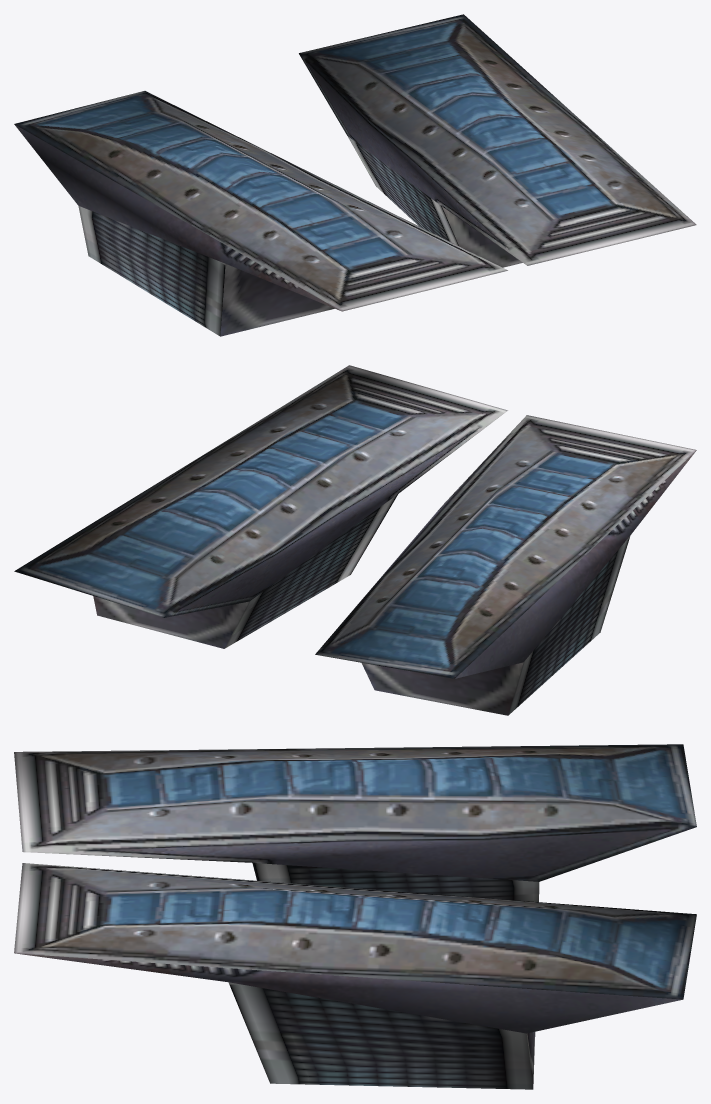
File: ArmPads4__LED.glb
3 views of the same model, one above another, from view 1: azimuth 30°, elevation 25°; view 2: azimuth 150°, elevation 25°; view 3: azimuth 270°, elevation 25° (orthographic). The views are drawn at different scales.
Visible parts, largest first — view 1: ArmPads4; view 2: ArmPads4; view 3: ArmPads4.
Boxes of the visible parts, x1,y1,x2,y2 form: ArmPads4: (14,14,696,336); ArmPads4: (14,365,696,715); ArmPads4: (14,744,696,1089).
Bounding box in the file's own units: 15.19 × 3.86 × 17.06.
1 material, 1 textured.
